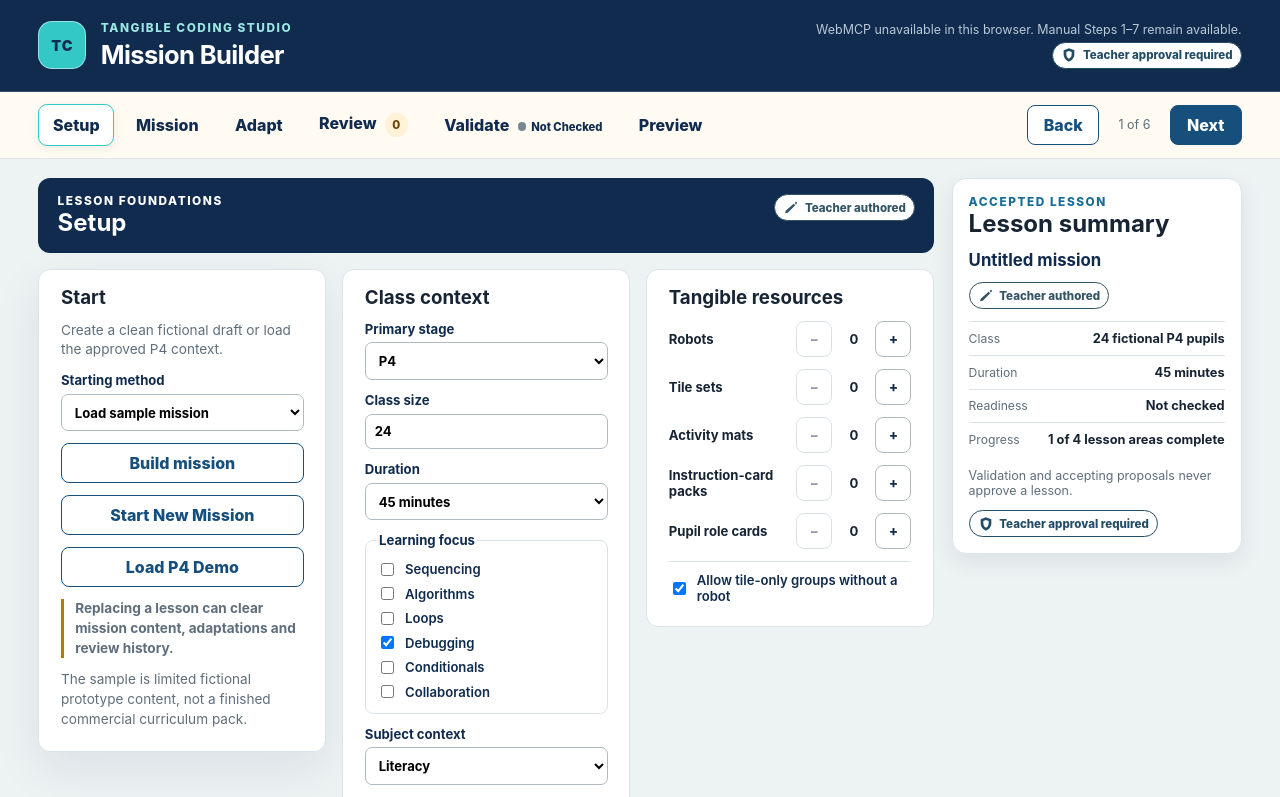
Scenario: Mission Builder foundation › starts directly from a completely blank mission without sample prose
This screenshot has width=1280, height=797.
Click the button "Build mission".
click(182, 463)  # box [61,443,304,483]
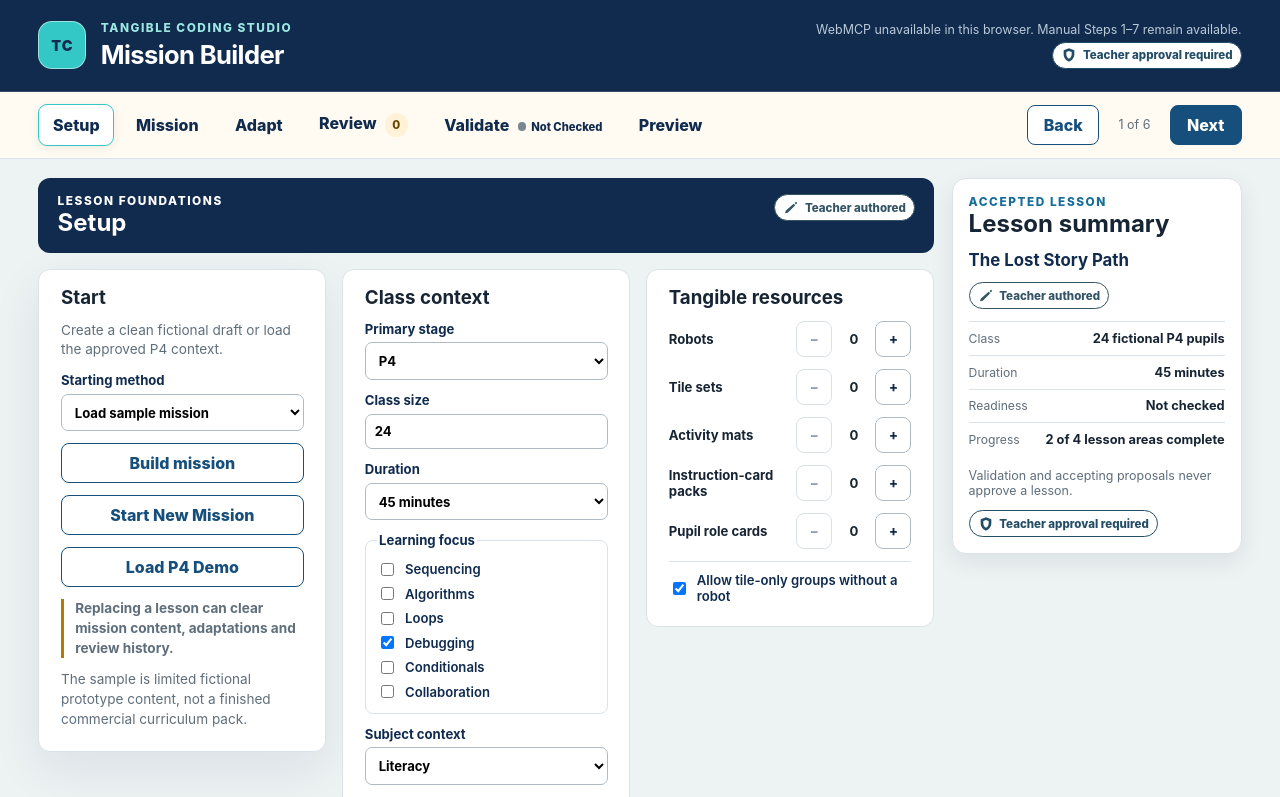
Select "Teacher starts from a blank structure" in the dropdown labelled "Starting method" at {"x": 182, "y": 413}, box [61,394,304,431]
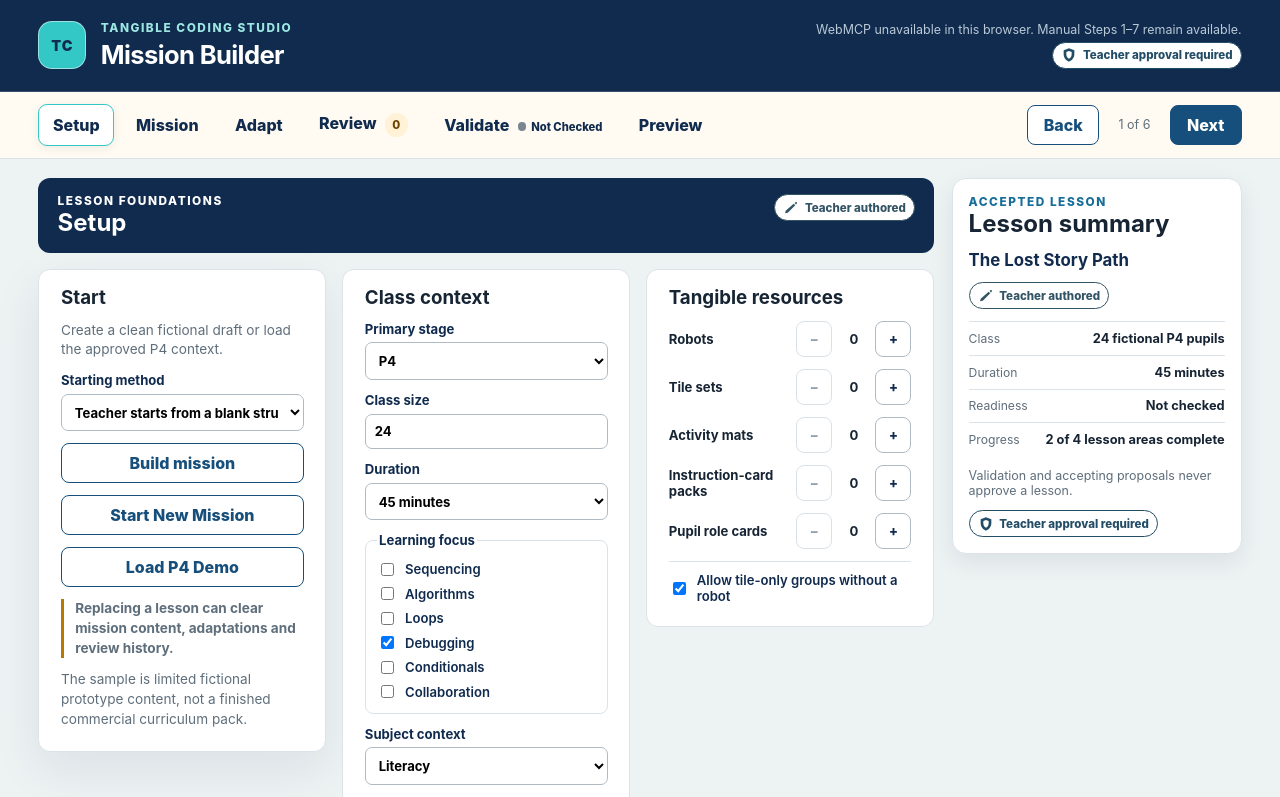
Click the button "Build mission".
click(182, 463)  # box [61,443,304,483]
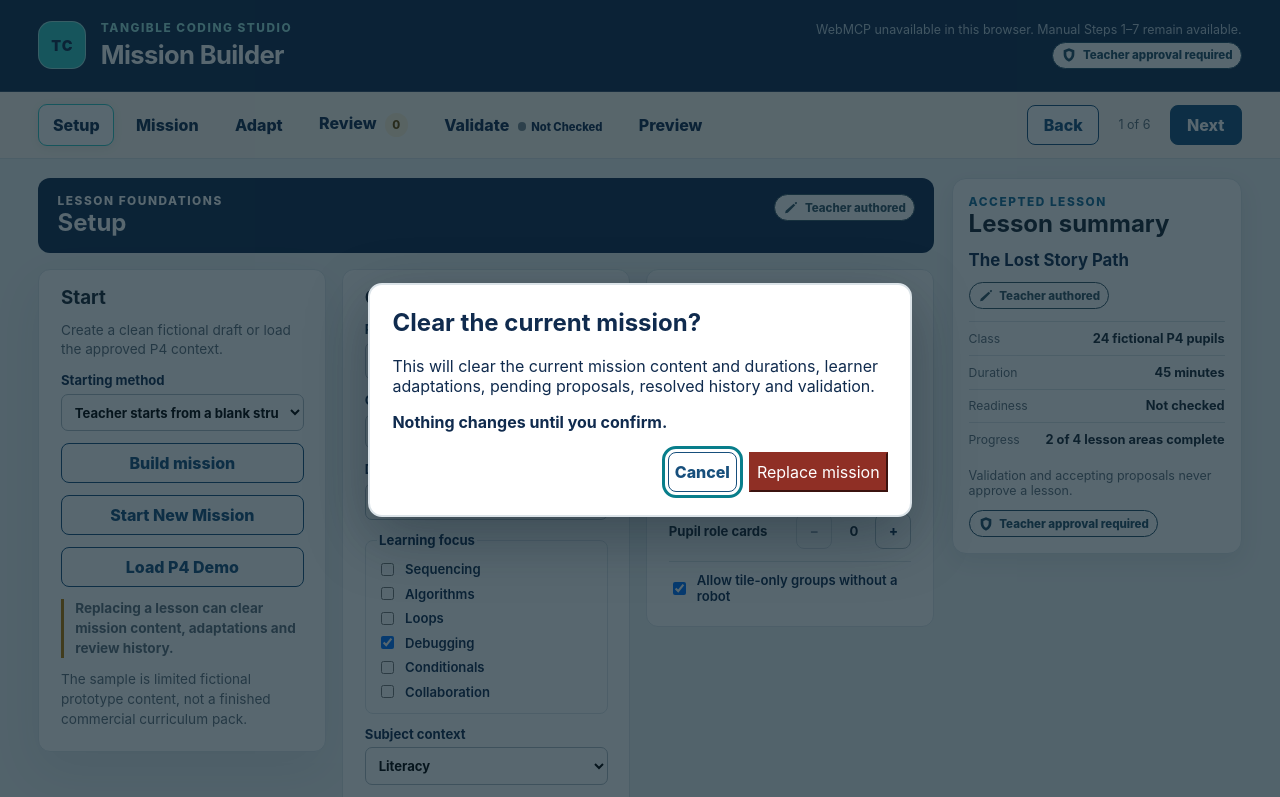
Click the button "Replace mission".
click(818, 472)  # box [749,452,888,492]
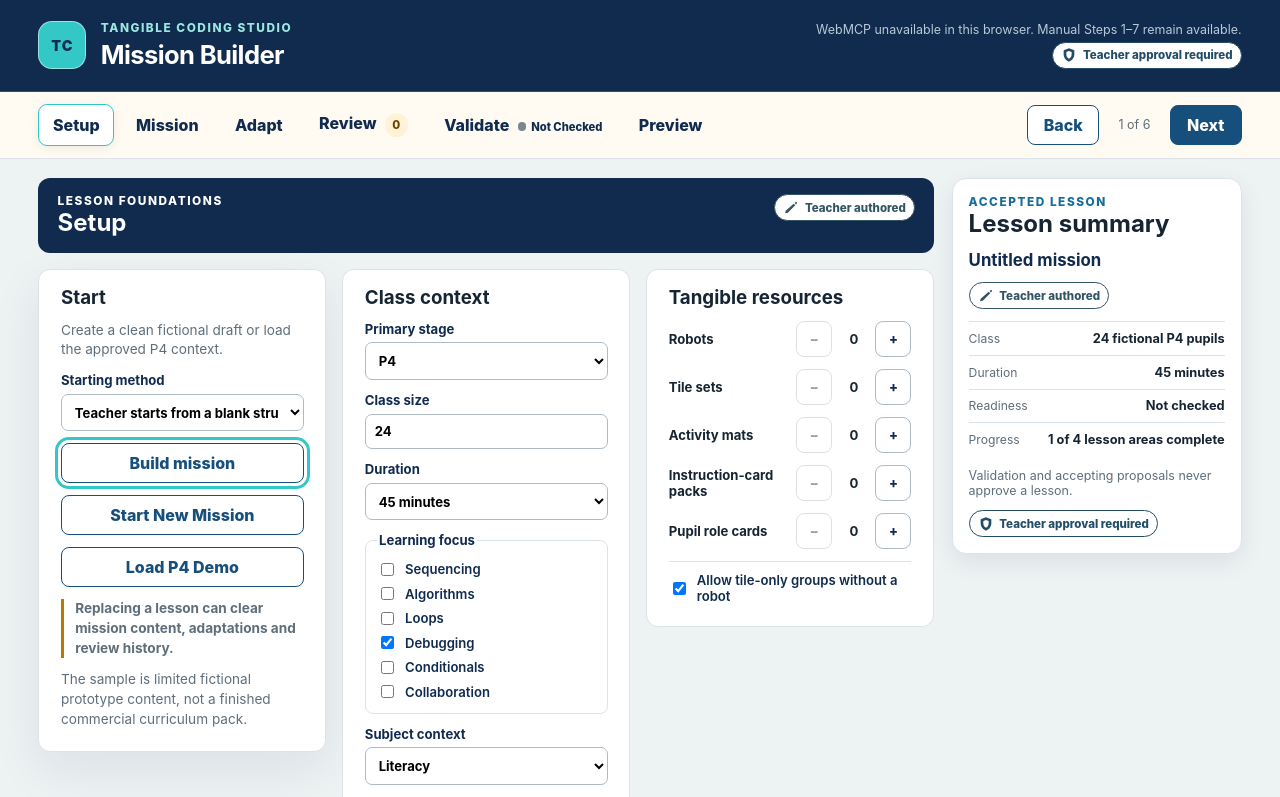
Check: the text "The Lost Story Path" is gone
